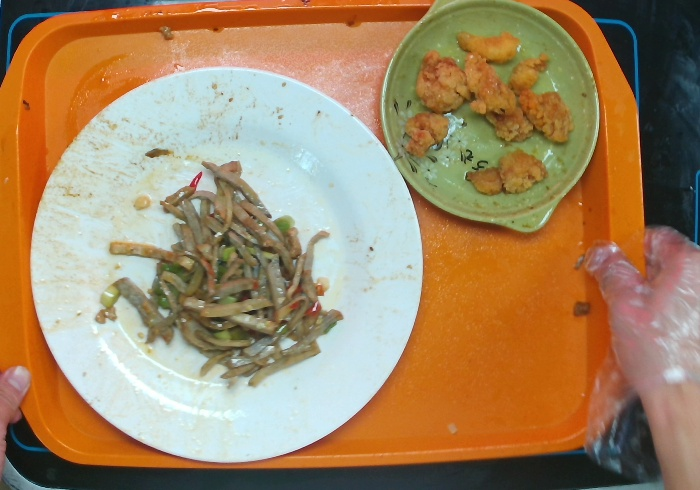NLDX-Da_Yuan_Pan: (26, 59, 435, 467)
NLDX-Lv_Hua_Shuang_Er_Die: (378, 1, 614, 234)
